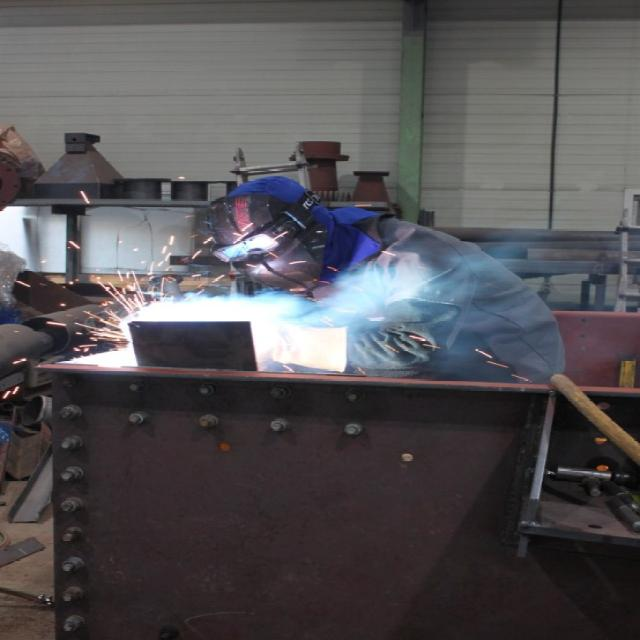welding: (144, 299, 272, 322)
